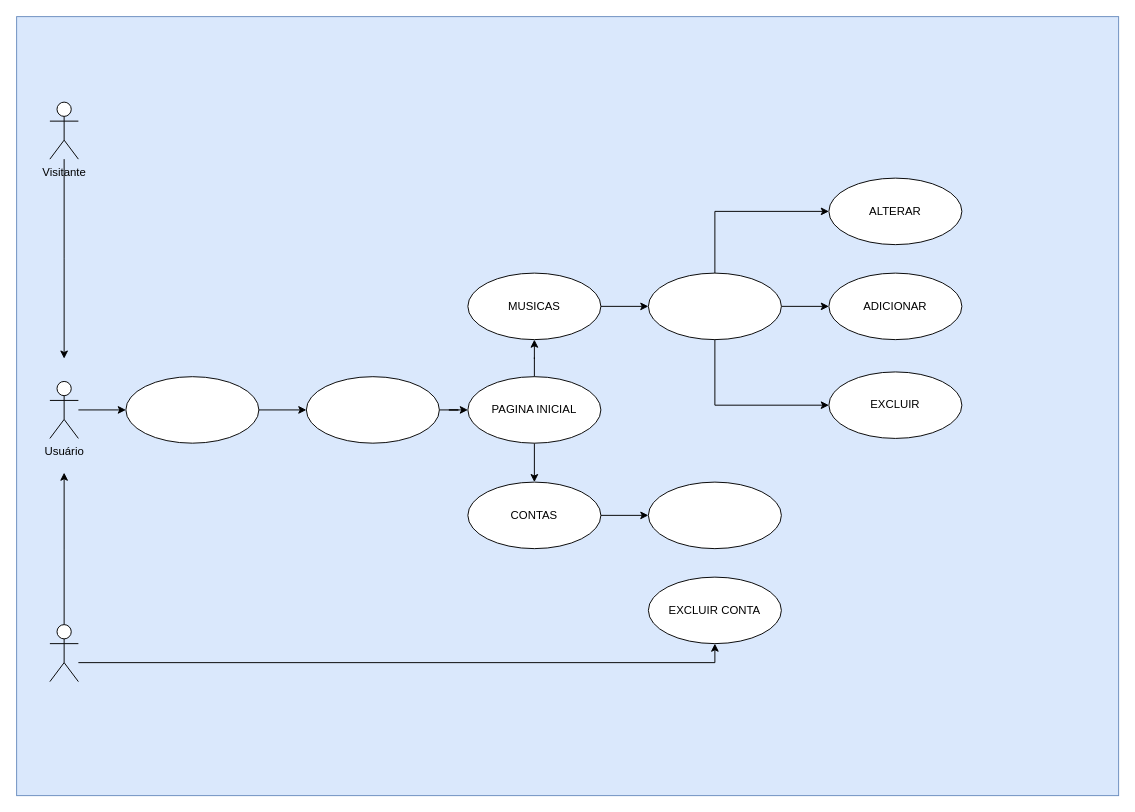
The diagram is 1135 pixels wide and 812 high, and some of its shapes have lost their labels. The shapes that lost their labels are listed below. From the top down, each one's centre as x and y in pixels, then its label:
the point at 714,306: LISTAR
the point at 192,409: CADASTRAR
the point at 372,409: ENTRAR
the point at 714,515: ALTERAR SENHA
the point at 63,653: Administrador
